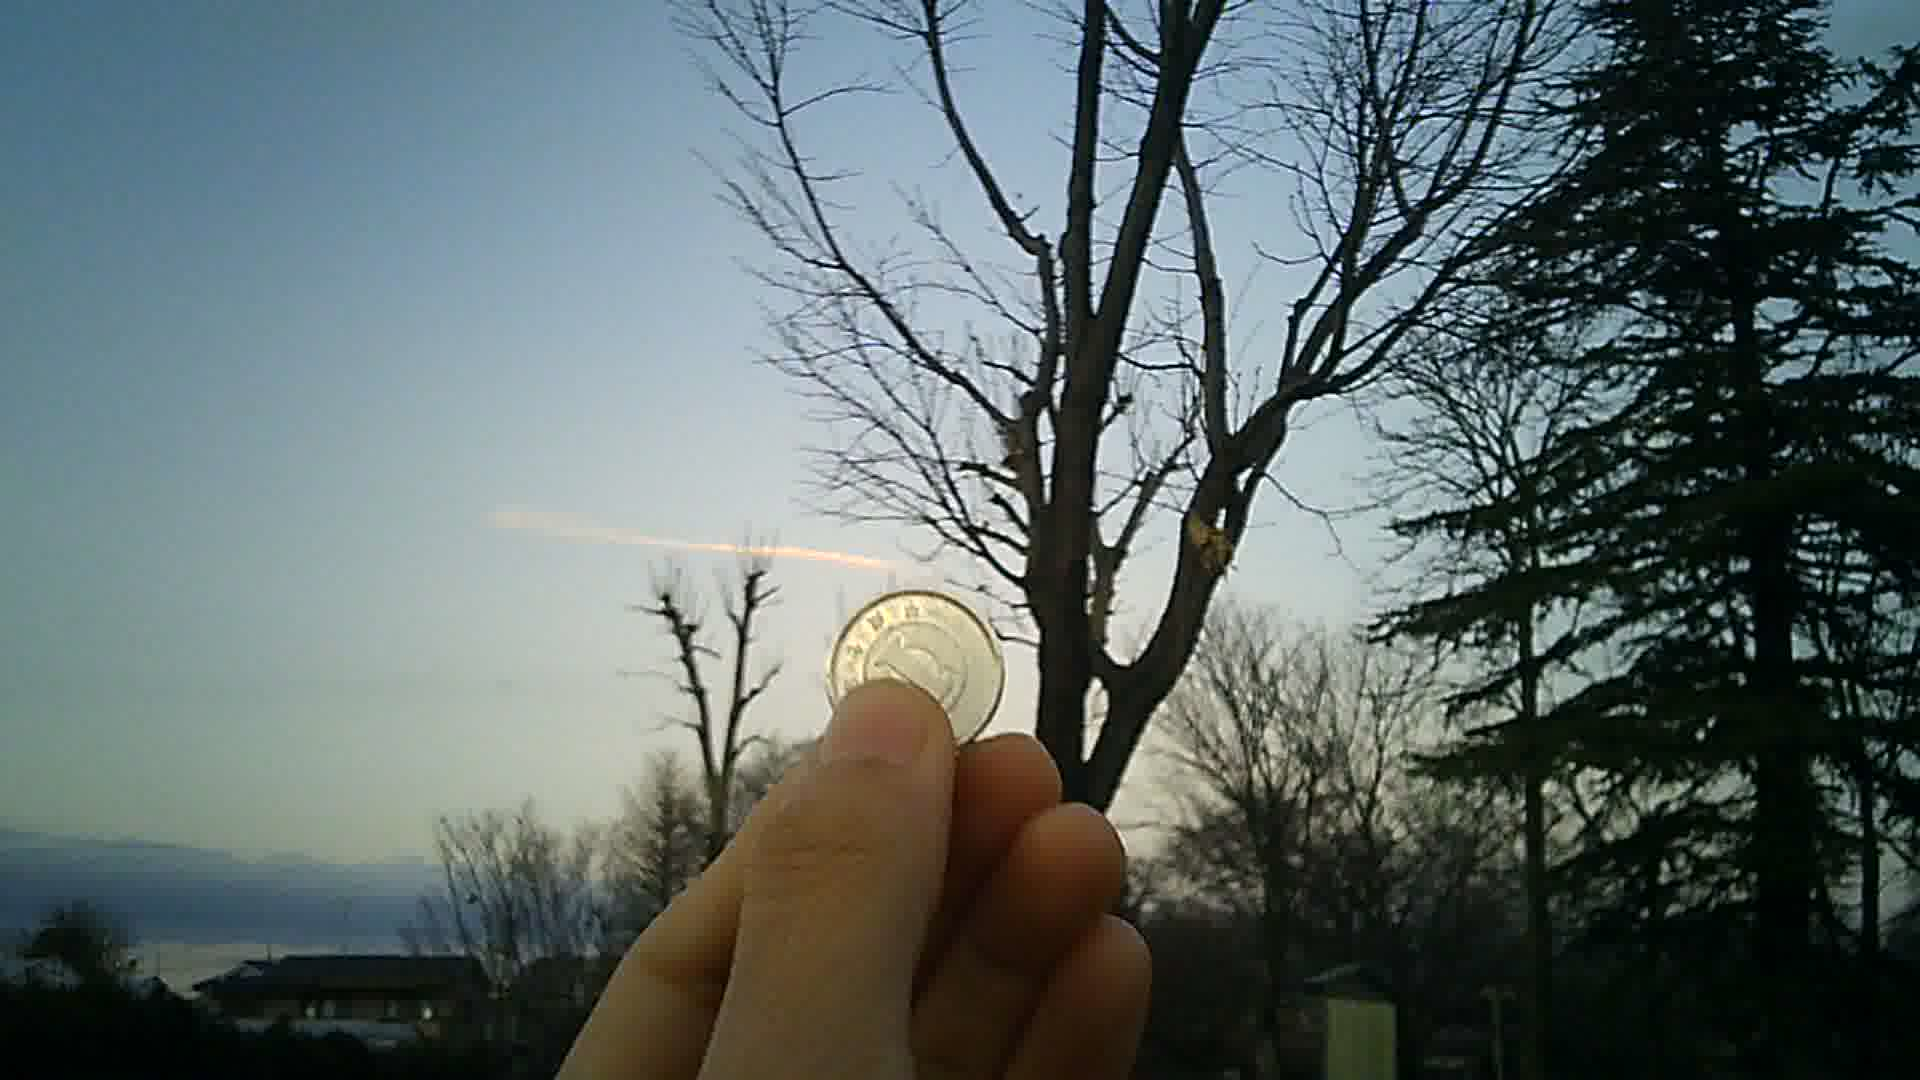1 Yen: (811, 579, 1017, 741)
